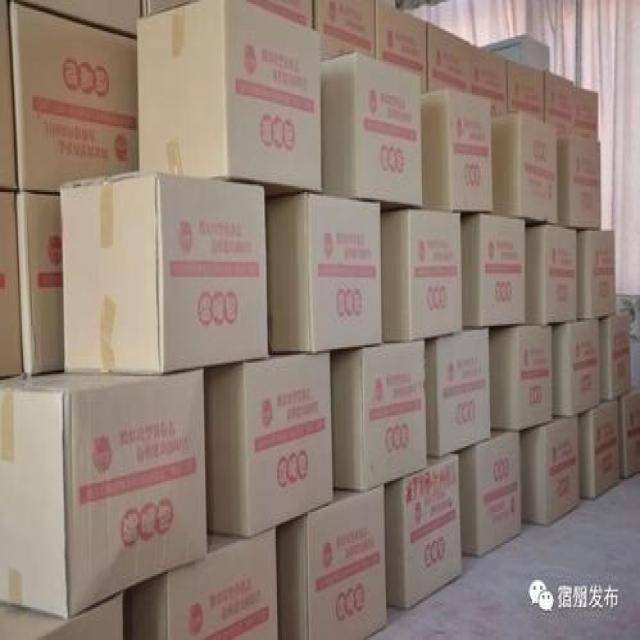Carton: (3, 176, 267, 615), (208, 50, 421, 531), (135, 0, 319, 188), (382, 209, 523, 450), (333, 341, 423, 487), (168, 528, 278, 638), (310, 483, 387, 638), (401, 454, 458, 613), (423, 87, 493, 206), (498, 112, 555, 213), (493, 328, 552, 421), (476, 434, 519, 559), (527, 221, 571, 318), (559, 134, 600, 225), (545, 419, 577, 526), (568, 320, 596, 415)
